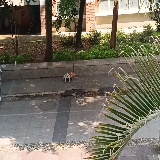fire: (68, 71, 75, 77)
